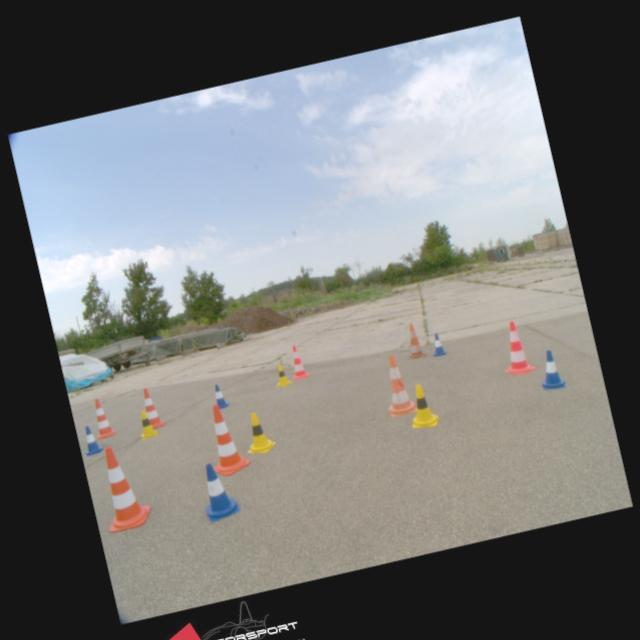blue_cone: (195, 458, 240, 520), (534, 348, 565, 392), (78, 424, 102, 456), (210, 382, 228, 408), (428, 332, 446, 356)
large_orange_cone: (91, 441, 154, 532), (200, 399, 252, 477), (376, 352, 416, 417), (493, 317, 535, 376), (88, 395, 116, 438), (138, 384, 164, 428), (284, 342, 309, 380), (402, 322, 425, 358)
yellow_cone: (238, 408, 276, 454), (404, 382, 438, 429), (134, 408, 158, 439), (271, 362, 290, 386)
